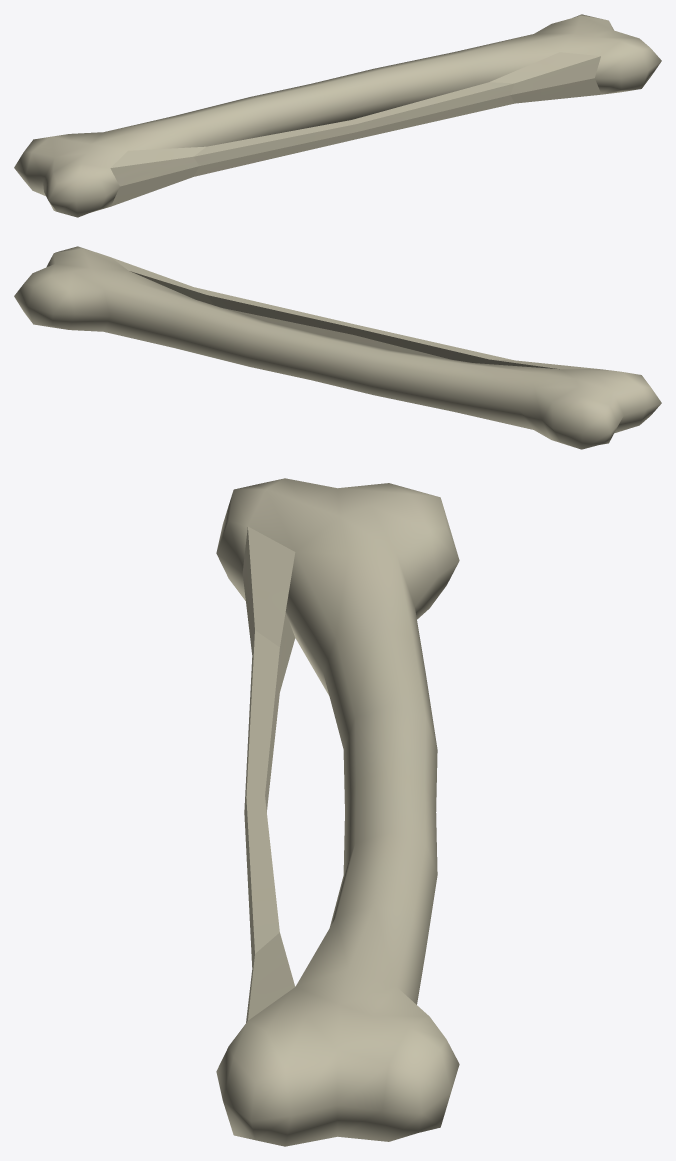
Rendered from Bone.fbx.
3 views of the same model, one above another, from view 1: azimuth 30°, elevation 25°; view 2: azimuth 150°, elevation 25°; view 3: azimuth 270°, elevation 25° (orthographic). The views are drawn at different scales.
Visible parts, largest first — view 1: polySurface67; view 2: polySurface67; view 3: polySurface67.
Boxes of the visible parts, box(x1,y1,x2,y2) form: polySurface67: box(14, 14, 661, 217); polySurface67: box(14, 246, 661, 449); polySurface67: box(216, 478, 459, 1146).
Bounding box in the file's own units: 2.91 × 0.2721 × 0.5.
